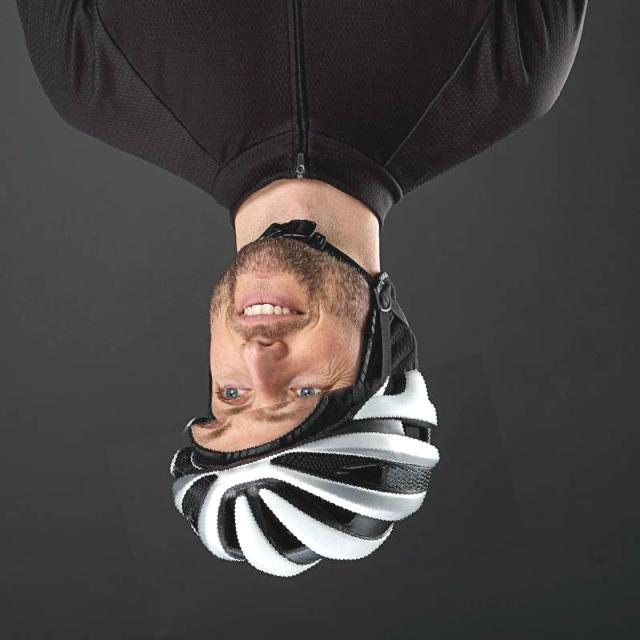helmet: (115, 375, 520, 618)
